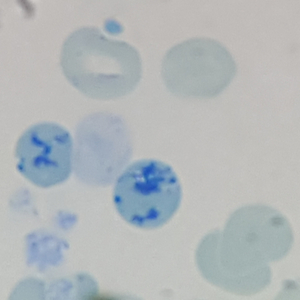aggregate reticulocyte: (111, 157, 184, 230), (13, 120, 78, 191)
erythrocyte: (57, 15, 144, 102), (217, 202, 297, 278), (192, 229, 274, 298), (157, 34, 239, 102), (70, 109, 132, 190)
